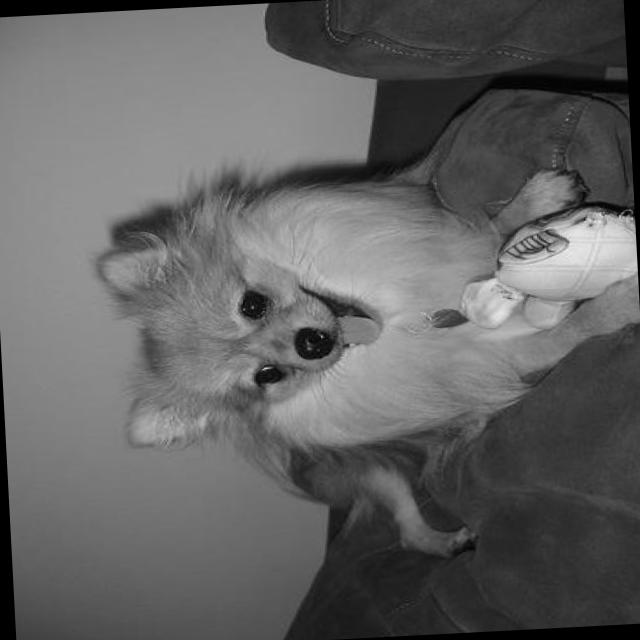laying down: (84, 137, 640, 579)
